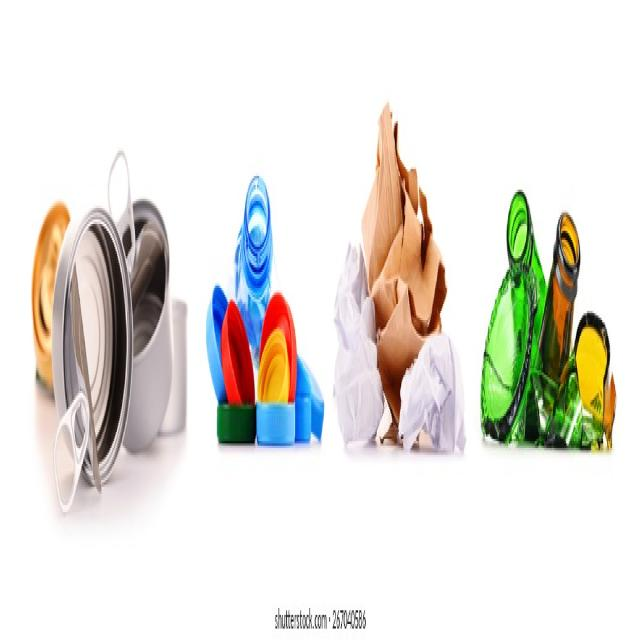glass: (489, 181, 608, 450)
metal: (47, 178, 192, 476)
paper: (352, 185, 447, 455)
plastic: (218, 213, 298, 473)
